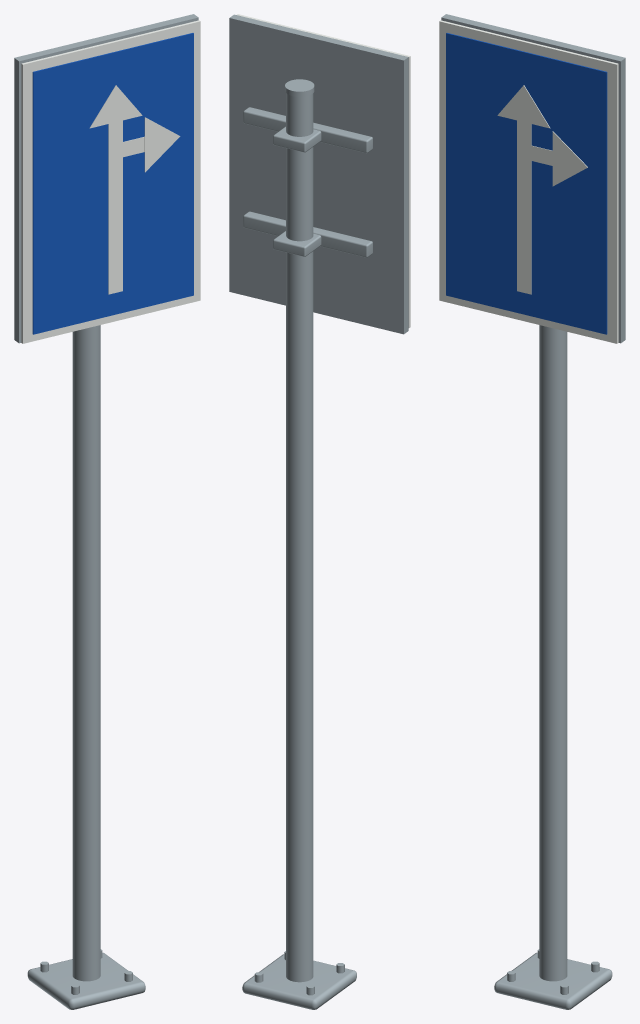
Rendered from DS_Sign_LaneDir1_SR.glb.
The picture shows the model from 3 angles, left to right: view 1: azimuth 30°, elevation 25°; view 2: azimuth 150°, elevation 25°; view 3: azimuth 330°, elevation 25°; orthographic projection. The views are drawn at different scales.
Visible parts, largest first — view 1: Face_Field.023, Post.030, Face_Border.023, Plate_Back.038, BasePlate.030, LaneStem0.005, ArrowHead.010, ArrowHead.009, LaneStraight0.003, LaneRight1.002; view 2: Plate_Back.038, Post.030, BasePlate.030, RearRail.064, RearRail.063, Face_Border.023, PostClamp.060, PostClamp.059, PostCap.030; view 3: Face_Field.023, Post.030, Face_Border.023, Plate_Back.038, BasePlate.030, LaneStem0.005, ArrowHead.010, ArrowHead.009, LaneStraight0.003, LaneRight1.002.
Part boxes in pixels (x1,y1,x2,y2): Face_Field.023: [32, 33, 193, 334]; Post.030: [72, 325, 100, 981]; Face_Border.023: [21, 20, 200, 343]; Plate_Back.038: [14, 14, 198, 343]; BasePlate.030: [27, 952, 145, 1009]; LaneStem0.005: [108, 176, 122, 294]; ArrowHead.010: [144, 117, 180, 172]; ArrowHead.009: [89, 85, 142, 128]; LaneStraight0.003: [108, 120, 122, 179]; LaneRight1.002: [115, 136, 144, 158]; Plate_Back.038: [229, 14, 408, 334]; Post.030: [286, 93, 313, 982]; BasePlate.030: [242, 954, 356, 1009]; RearRail.064: [243, 107, 372, 153]; RearRail.063: [243, 211, 372, 257]; Face_Border.023: [237, 14, 410, 327]; PostClamp.060: [273, 126, 321, 152]; PostClamp.059: [273, 231, 321, 256]; PostCap.030: [285, 79, 314, 96]; Face_Field.023: [446, 33, 607, 334]; Post.030: [539, 325, 567, 981]; Face_Border.023: [439, 20, 618, 343]; Plate_Back.038: [441, 14, 625, 343]; BasePlate.030: [494, 952, 612, 1009]; LaneStem0.005: [517, 176, 531, 294]; ArrowHead.010: [552, 131, 587, 186]; ArrowHead.009: [497, 85, 550, 128]; LaneStraight0.003: [517, 120, 531, 179]; LaneRight1.002: [524, 144, 552, 165].
Bounding box in the file's own units: 0.56 × 2.87 × 0.28.
